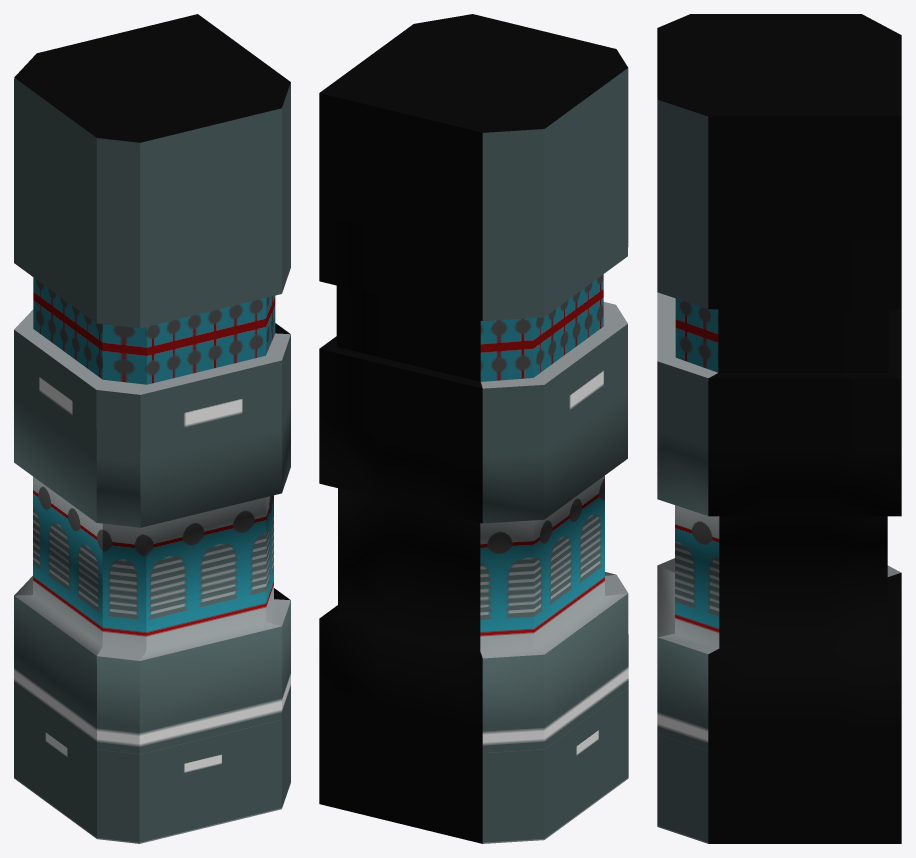
Rendered from P1_Corner3.fbx.
3 views of the same model, side by side, from view 1: azimuth 30°, elevation 25°; view 2: azimuth 150°, elevation 25°; view 3: azimuth 270°, elevation 25° (orthographic). The views are drawn at different scales.
Parts seen in each view (by area): view 1: Cube.011; view 2: Cube.011; view 3: Cube.011.
Part boxes in pixels (box(x1,y1,x2,y2)): Cube.011: box(14, 14, 290, 843); Cube.011: box(319, 14, 628, 843); Cube.011: box(657, 14, 901, 843).
Bounding box in the file's own units: 121 × 122 × 400.
